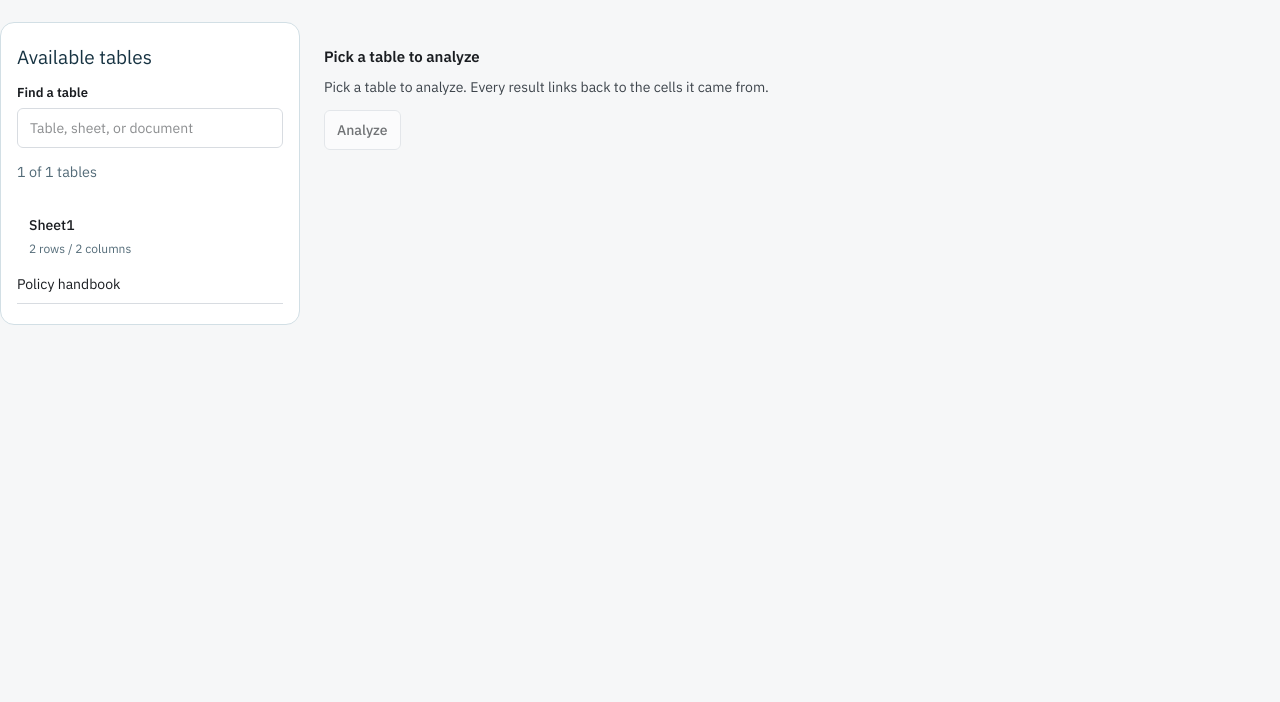
Scenario: TablesApp › counts rows without requiring a hand-built filter
Click the button "Sheet1 2 rows / 2 columns": click(52, 225) [17,202,283,270]
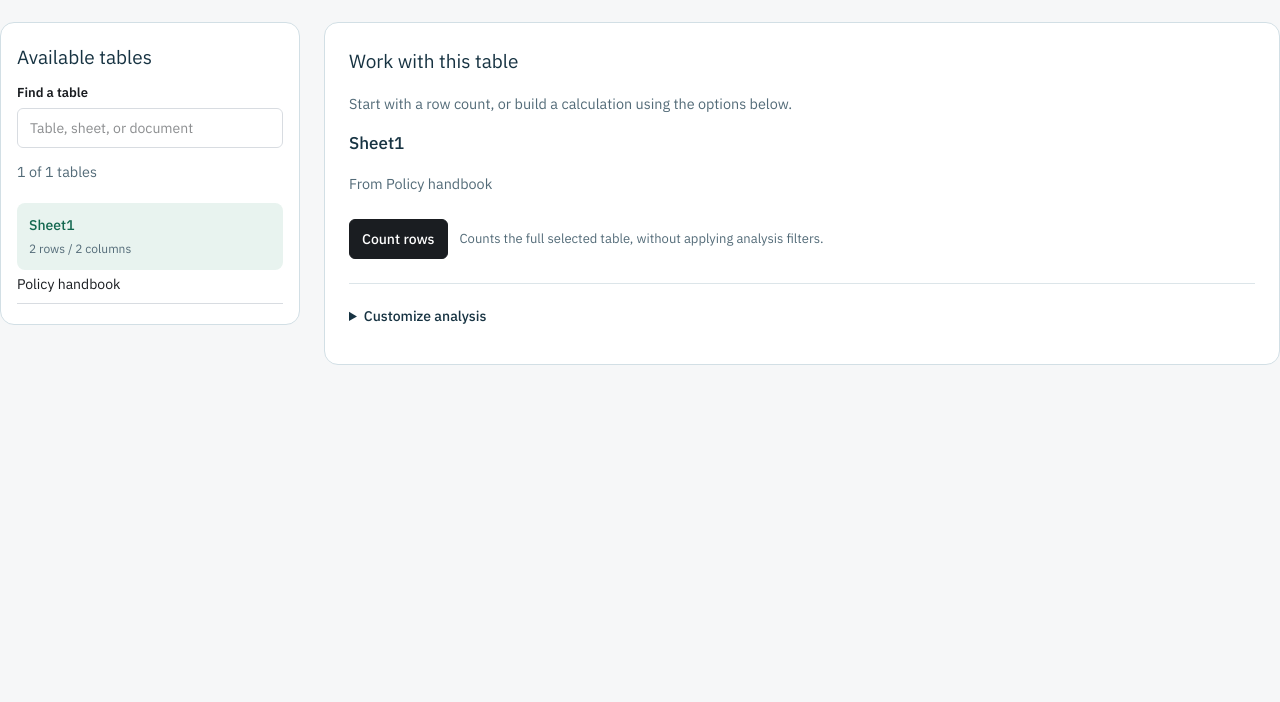
Click the button "Count rows": click(398, 239) [349,219,448,259]
(page scrolled)
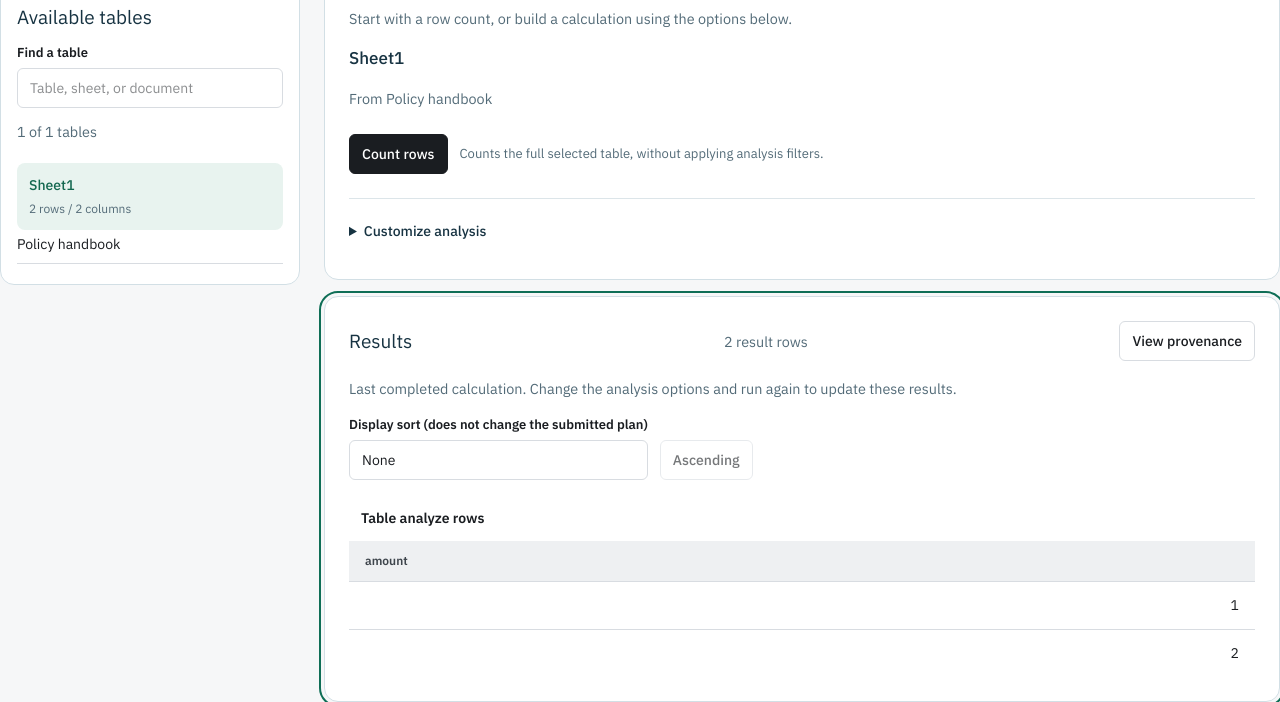
Expected: the heading "Results" is shown, [349,327,412,355]
